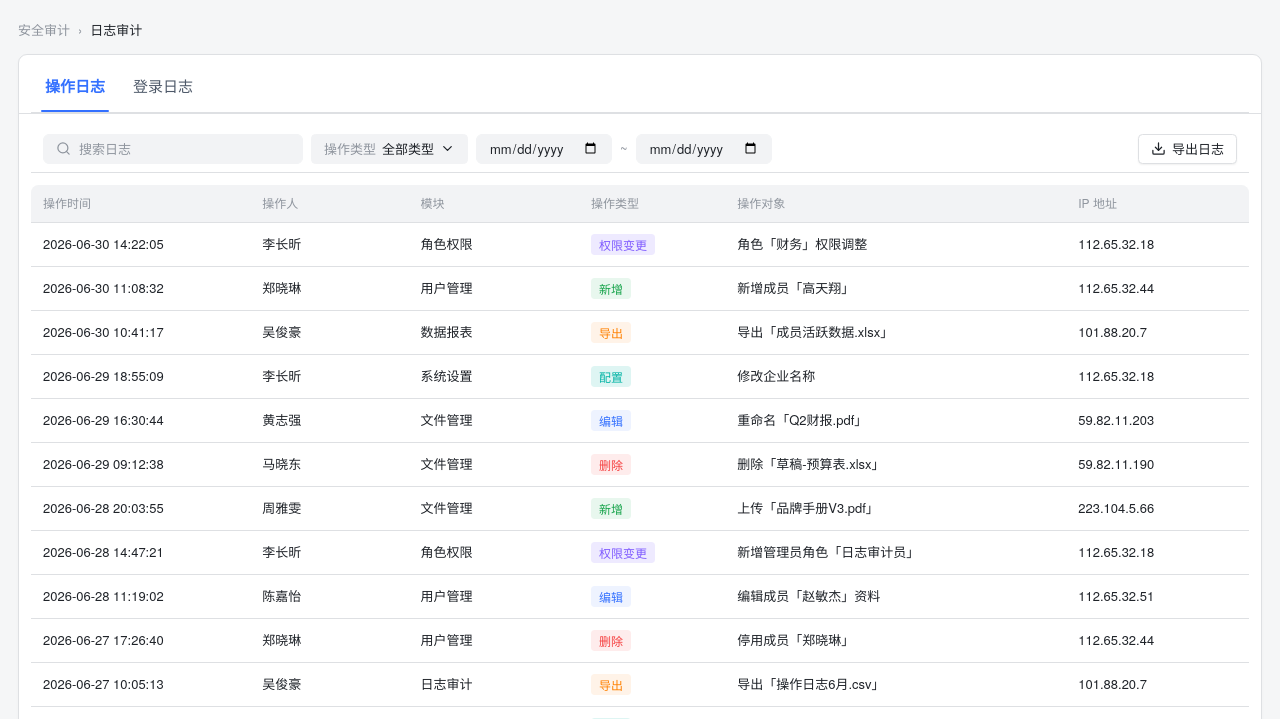
Scenario: 日期区间参与日志查询并更新结果数
Expected: the text "角色「财务」权限调整" is shown, 725,222 -> 1066,266
Type "2026-06-30" into the date field named "开始日期" at (544, 148), box 476,134 -> 612,164
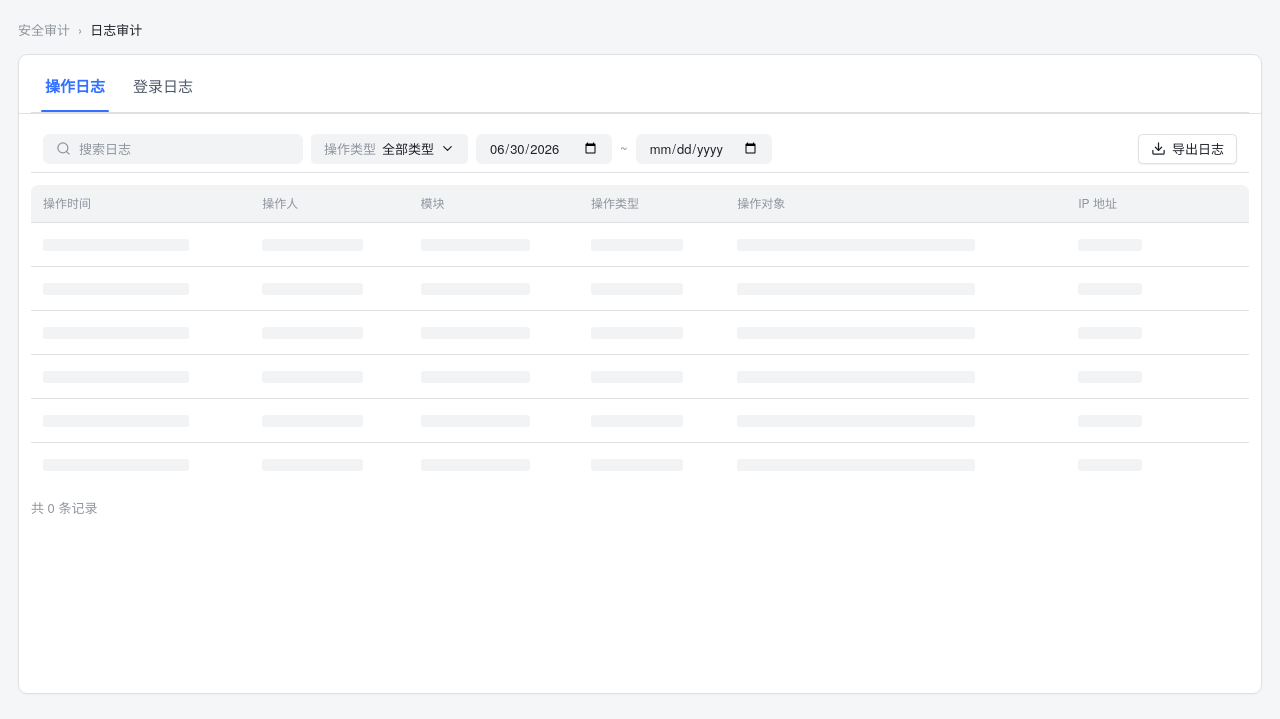
Type "2026-06-30" into the date field named "结束日期" at (704, 148), box 636,134 -> 772,164
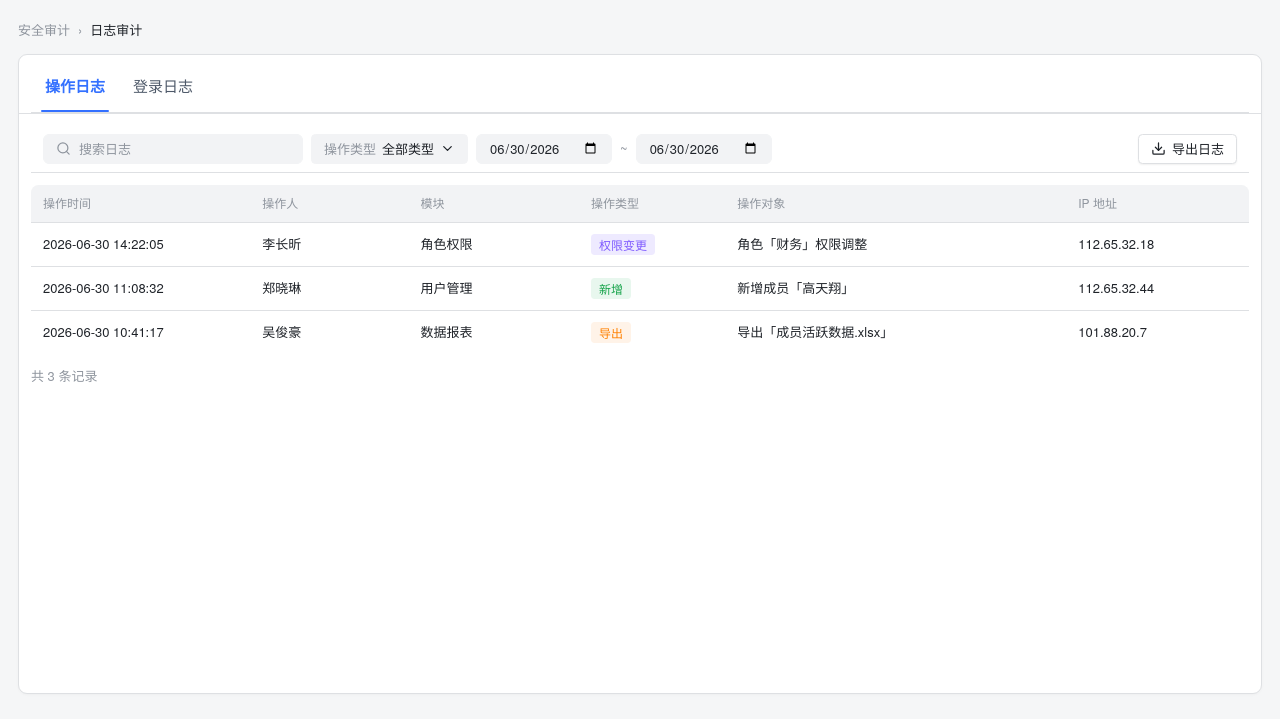
Expected: the text "修改企业名称" is not shown
Now the text "共 3 条记录" is shown, box 31,366 -> 98,384
